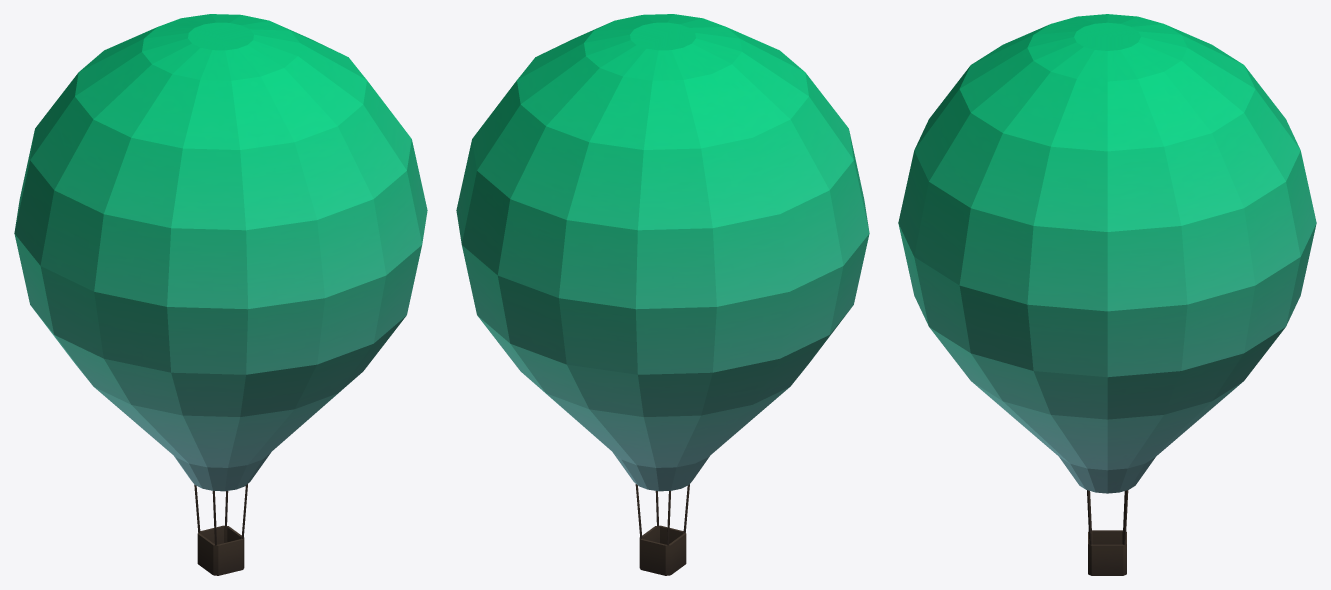
File: prop_baloon_J.FBX
The picture shows the model from 3 angles, left to right: view 1: azimuth 30°, elevation 25°; view 2: azimuth 150°, elevation 25°; view 3: azimuth 270°, elevation 25°; orthographic projection.
Parts seen in each view (by area): view 1: prop_baloon_J; view 2: prop_baloon_J; view 3: prop_baloon_J.
Boxes of the visible parts, box(x1,y1,x2,y2) form: prop_baloon_J: box(14, 14, 427, 575); prop_baloon_J: box(456, 14, 869, 575); prop_baloon_J: box(898, 14, 1316, 575).
Size of the model in its own units: 591 by 828 by 591.
Materials: 1 (1 with a texture image).
